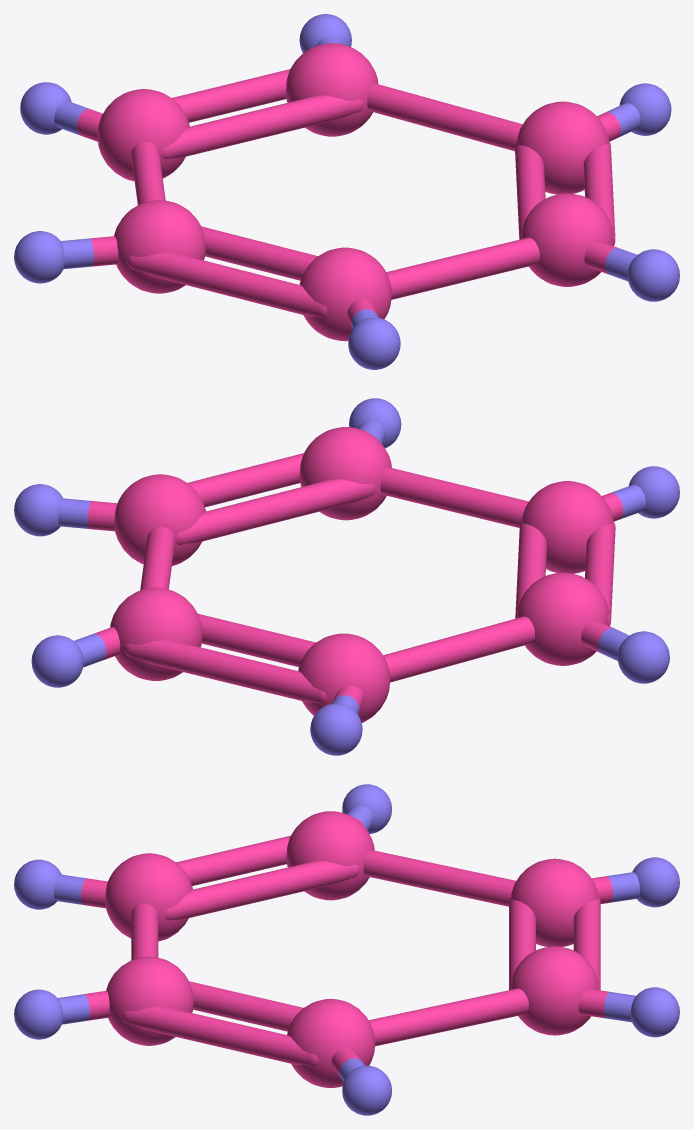
The model's file is aromaticos.gltf.
The picture shows the model from 3 angles, top to bottom: view 1: azimuth 30°, elevation 25°; view 2: azimuth 150°, elevation 25°; view 3: azimuth 270°, elevation 25°; orthographic projection. The views are drawn at different scales.
Visible parts, largest first — view 1: Sphere.021, Sphere.022, Sphere.028, Sphere.025, Cylinder.048, Cylinder.040, Sphere.023, Sphere.029, Cylinder.053, Cylinder.034, Cylinder.050, Cylinder.038 (+16 smaller); view 2: Sphere.023, Sphere.025, Sphere.022, Cylinder.050, Cylinder.043, Sphere.021, Sphere.029, Sphere.028, Cylinder.033, Cylinder.034, Cylinder.048, Cylinder.047 (+15 smaller); view 3: Sphere.029, Sphere.025, Cylinder.047, Sphere.022, Sphere.028, Sphere.021, Cylinder.038, Sphere.023, Cylinder.053, Cylinder.033, Cylinder.040, Cylinder.043 (+16 smaller).
Part boxes in pixels (x1,y1,x2,y2): Sphere.021: [521, 193, 613, 286]; Sphere.022: [299, 247, 391, 341]; Sphere.028: [97, 89, 189, 181]; Sphere.025: [516, 101, 608, 194]; Cylinder.048: [161, 95, 363, 158]; Cylinder.040: [126, 252, 327, 317]; Sphere.023: [114, 200, 205, 293]; Sphere.029: [285, 43, 378, 136]; Cylinder.053: [367, 83, 522, 151]; Cylinder.034: [386, 237, 539, 299]; Cylinder.050: [172, 69, 290, 122]; Cylinder.038: [201, 226, 317, 280]; Sphere.023: [517, 572, 608, 665]; Sphere.025: [114, 474, 205, 565]; Sphere.022: [521, 481, 613, 573]; Cylinder.050: [124, 640, 326, 703]; Cylinder.043: [175, 479, 375, 544]; Sphere.021: [299, 427, 391, 520]; Sphere.029: [110, 587, 202, 680]; Sphere.028: [298, 633, 390, 722]; Cylinder.033: [383, 616, 534, 682]; Cylinder.034: [380, 467, 528, 527]; Cylinder.048: [198, 613, 315, 667]; Cylinder.047: [188, 453, 303, 507]; Sphere.029: [511, 946, 598, 1035]; Sphere.025: [287, 999, 375, 1087]; Cylinder.047: [122, 1006, 318, 1066]; Sphere.022: [105, 853, 192, 941]; Sphere.028: [511, 858, 598, 946]; Sphere.021: [106, 956, 193, 1045]; Cylinder.038: [165, 861, 359, 920]; Sphere.023: [286, 811, 374, 900]; Cylinder.053: [369, 988, 528, 1046]; Cylinder.033: [363, 850, 516, 906]; Cylinder.040: [176, 835, 290, 885]; Cylinder.043: [189, 981, 303, 1031].
Bounding box in the file's own units: 0.00191 × 0.000238 × 0.00178.
